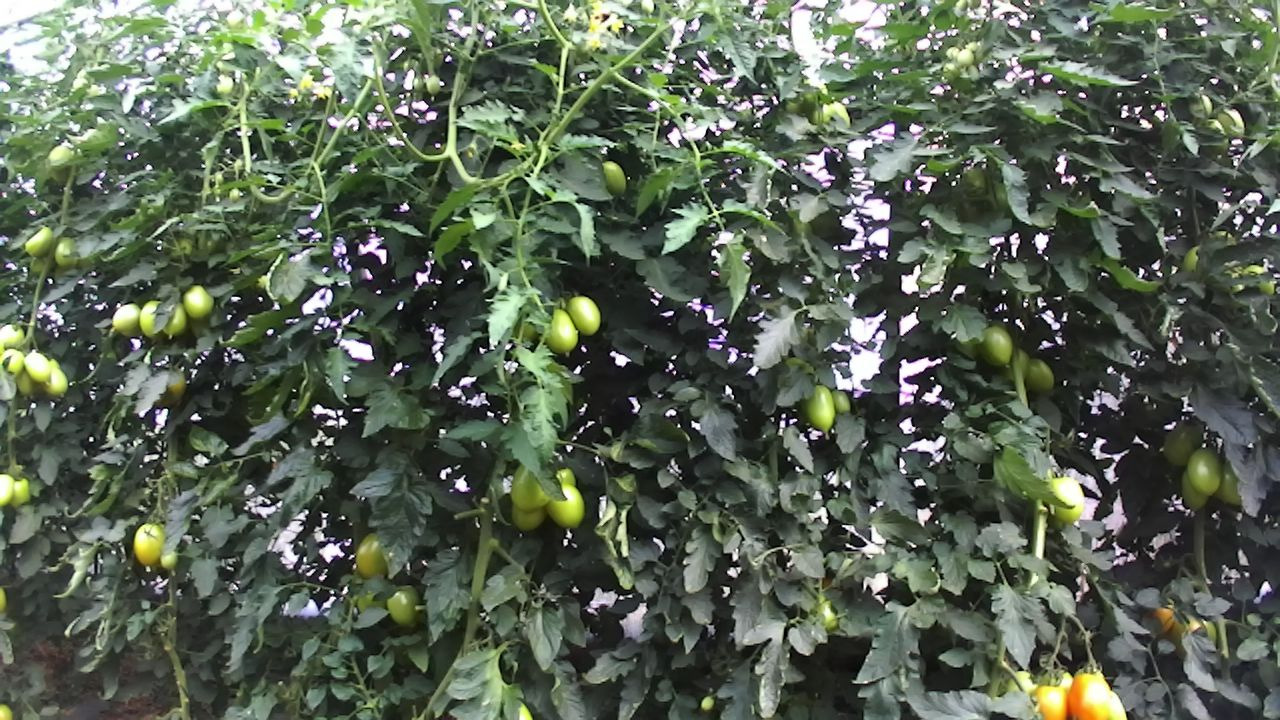tomato: (1066, 664, 1130, 720), (1156, 412, 1210, 467), (1041, 469, 1087, 529), (503, 461, 553, 511), (1184, 444, 1226, 497), (798, 380, 837, 435), (547, 480, 586, 532), (353, 531, 392, 580), (543, 307, 581, 357), (1029, 680, 1074, 720), (384, 581, 423, 627), (1019, 352, 1058, 397), (565, 294, 602, 337), (978, 324, 1014, 368), (131, 522, 165, 568), (595, 156, 630, 197), (182, 282, 216, 321), (135, 295, 165, 339), (21, 223, 55, 259), (39, 364, 70, 399), (51, 233, 78, 272), (110, 301, 141, 334), (23, 349, 51, 384), (0, 473, 15, 507)
